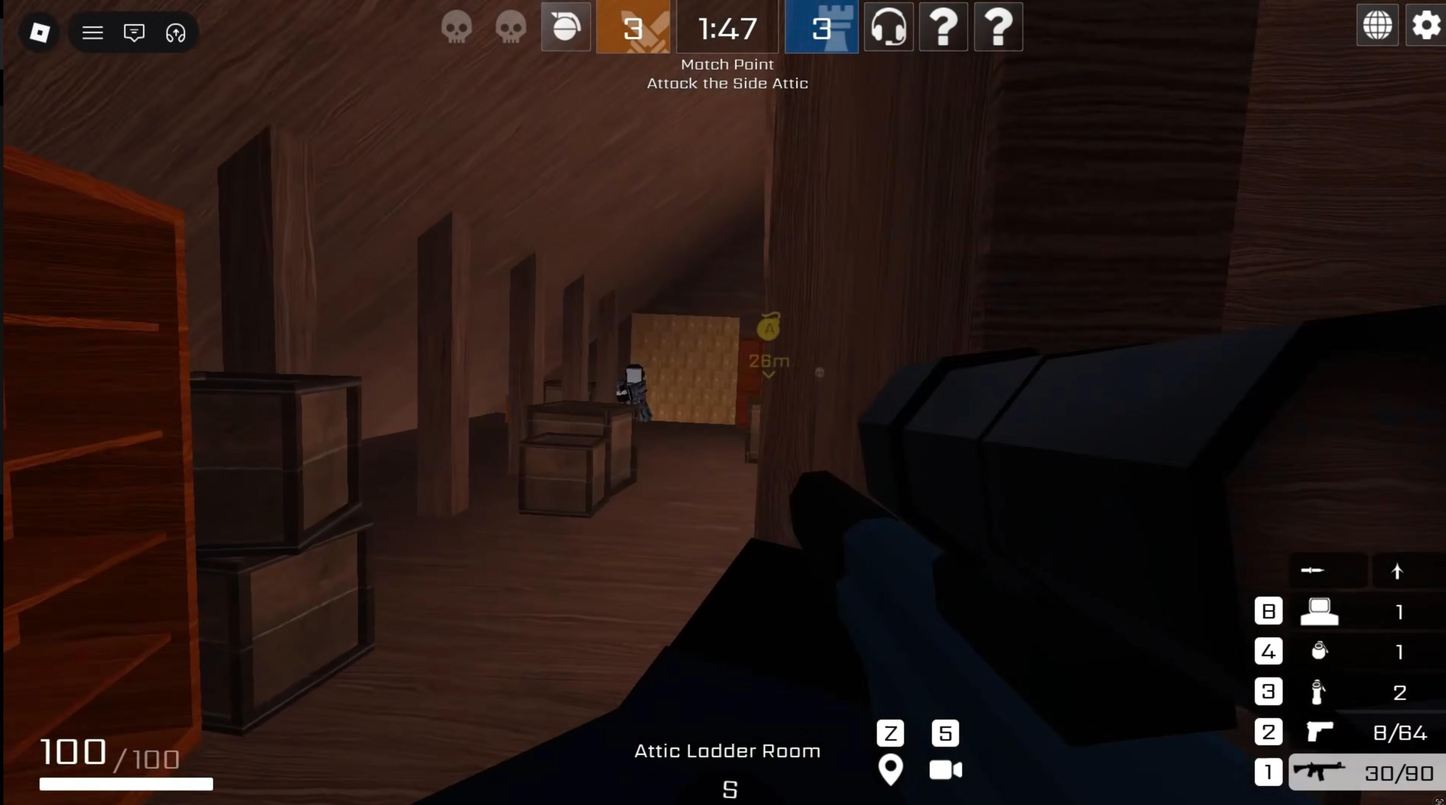enemy: (613, 364, 656, 430)
